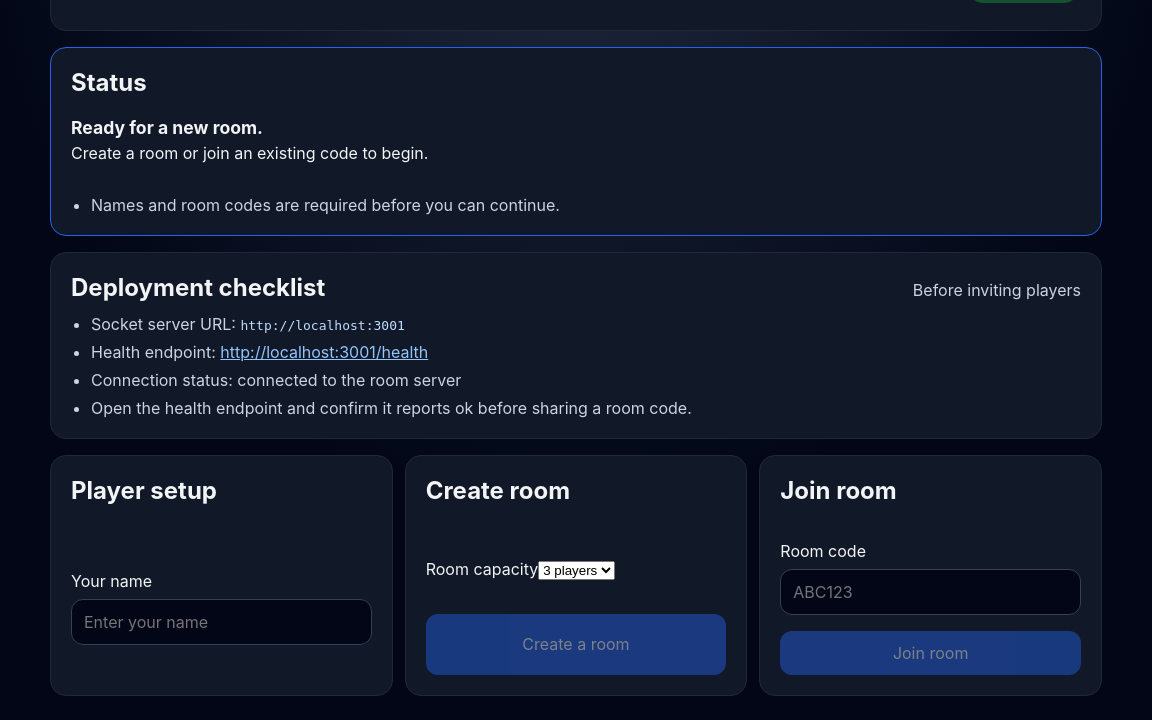
Test: App – landing view › enables the create-room button when a name is typed
(page scrolled)
Step 1. Type "Ada" into the field with placeholder "Enter your name" → (221, 622), box [71,599,372,645]
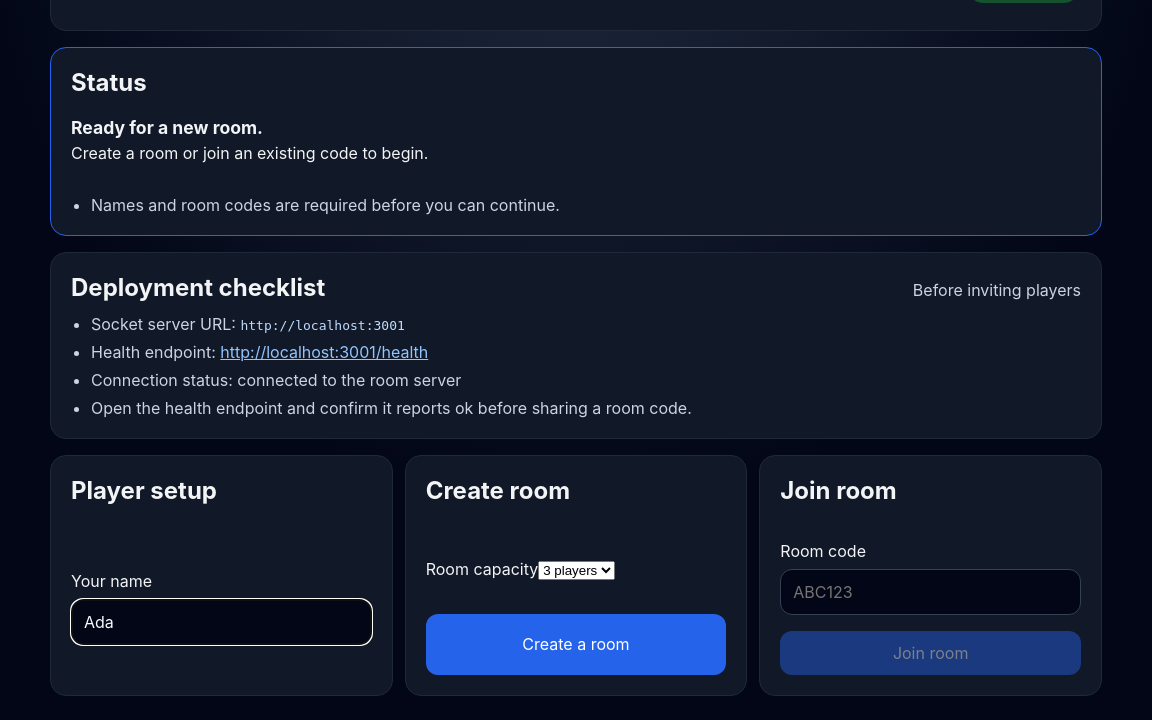
Check: the button "Create a room" is enabled, box [426,614,726,675]
